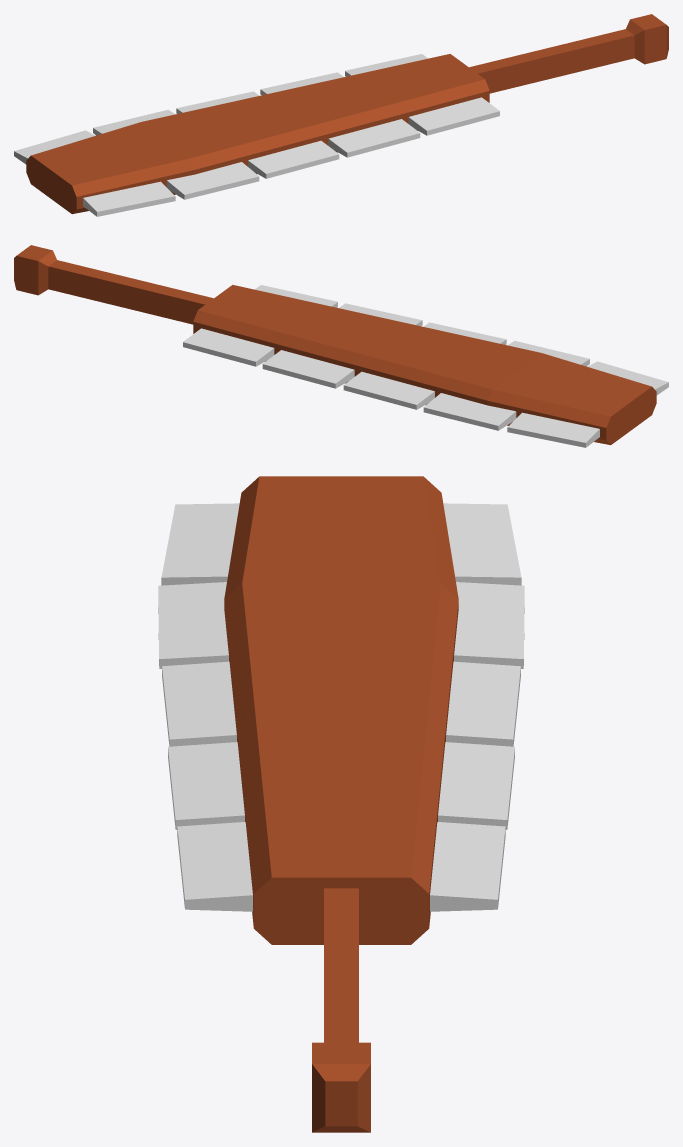
File: gigaSchwert.fbx
The picture shows the model from 3 angles, top to bottom: view 1: azimuth 30°, elevation 25°; view 2: azimuth 150°, elevation 25°; view 3: azimuth 270°, elevation 25°; orthographic projection. The views are drawn at different scales.
Parts seen in each view (by area): view 1: Cube.001; view 2: Cube.001; view 3: Cube.001.
Boxes of the visible parts, x1,y1,x2,y2 form: Cube.001: (14, 14, 668, 216); Cube.001: (14, 245, 668, 447); Cube.001: (158, 476, 524, 1132).
Bounding box in the file's own units: 1631 × 87.24 × 422.
